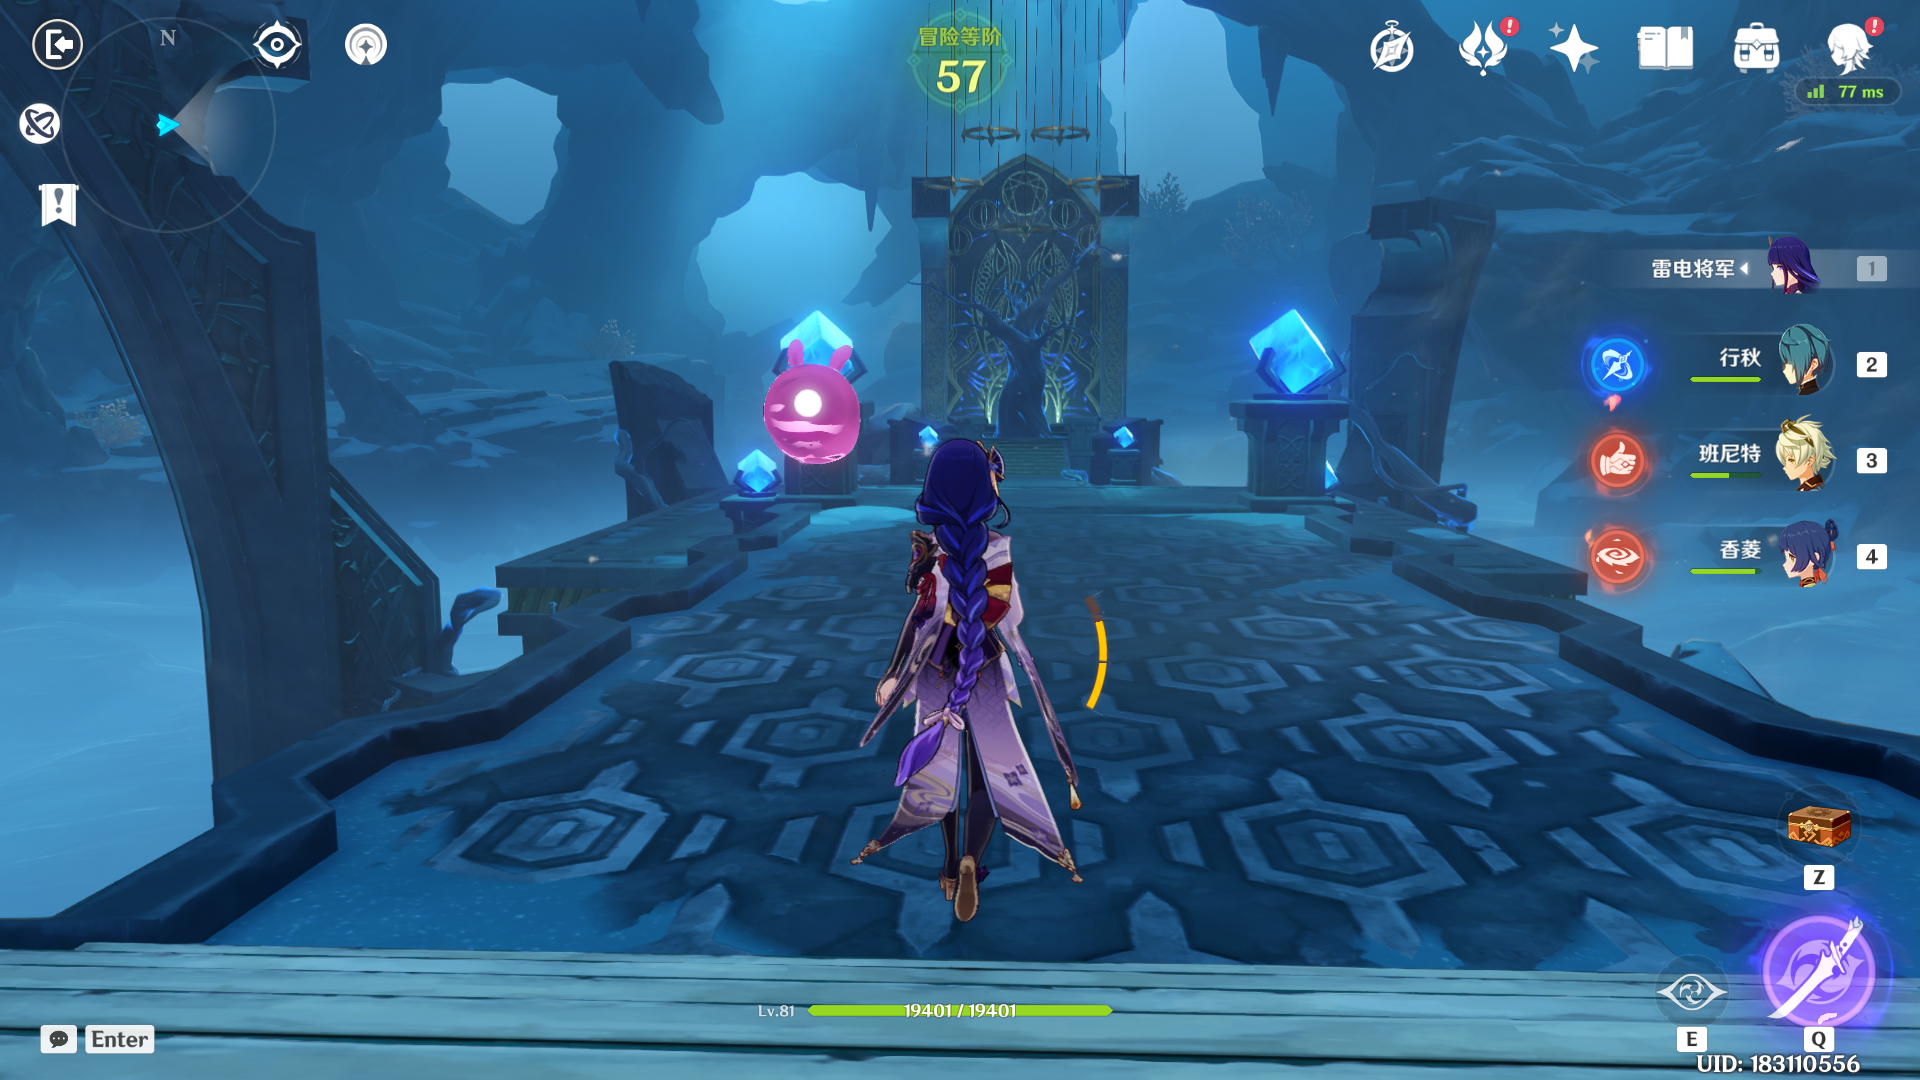character: (823, 386, 1135, 948)
